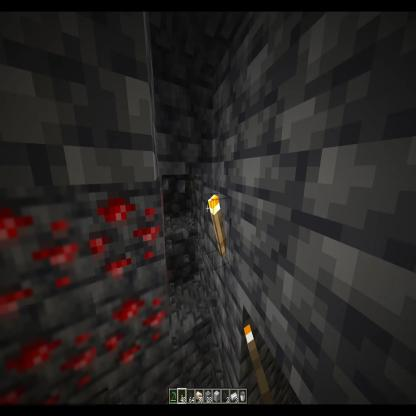redstone ore: (0, 189, 89, 313), (82, 180, 164, 312), (0, 305, 96, 416), (96, 268, 169, 388)
